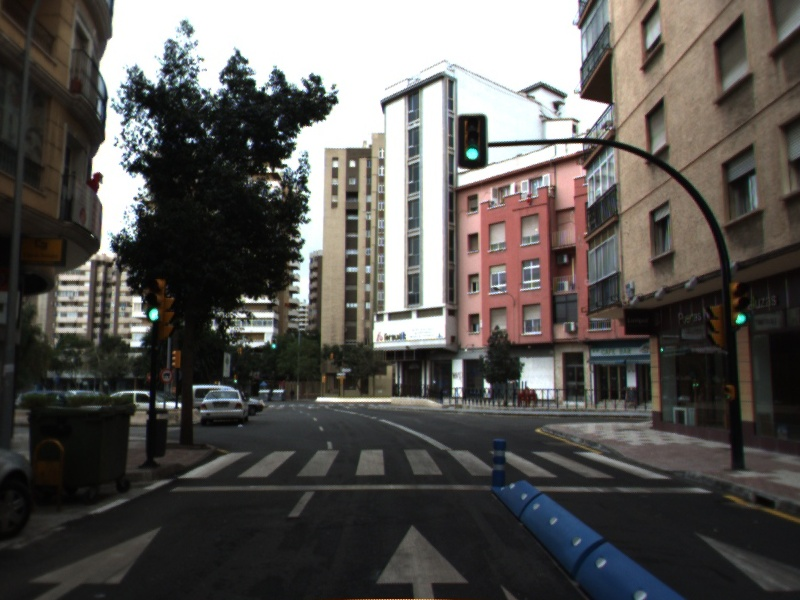STRAIGHT: (20, 520, 170, 597), (370, 518, 475, 600)
